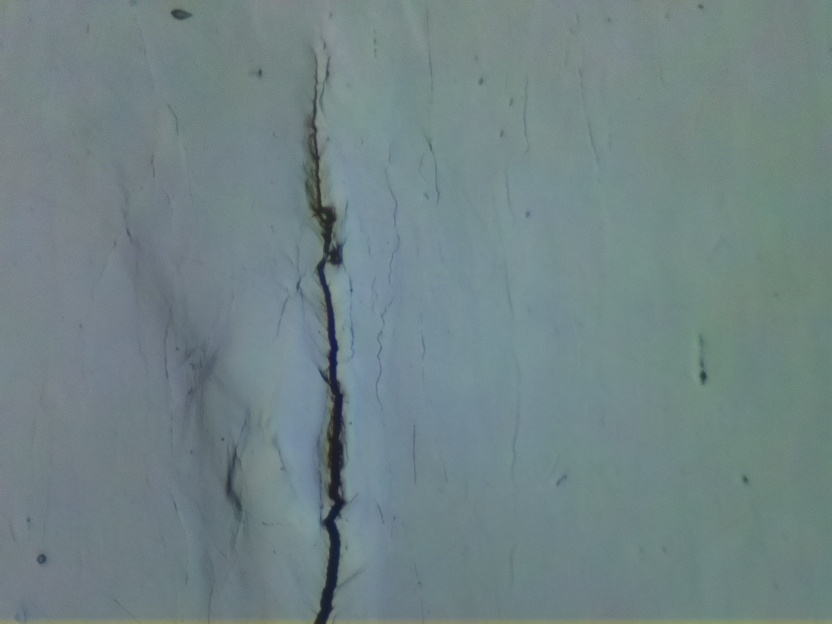crack: (296, 49, 346, 624)
